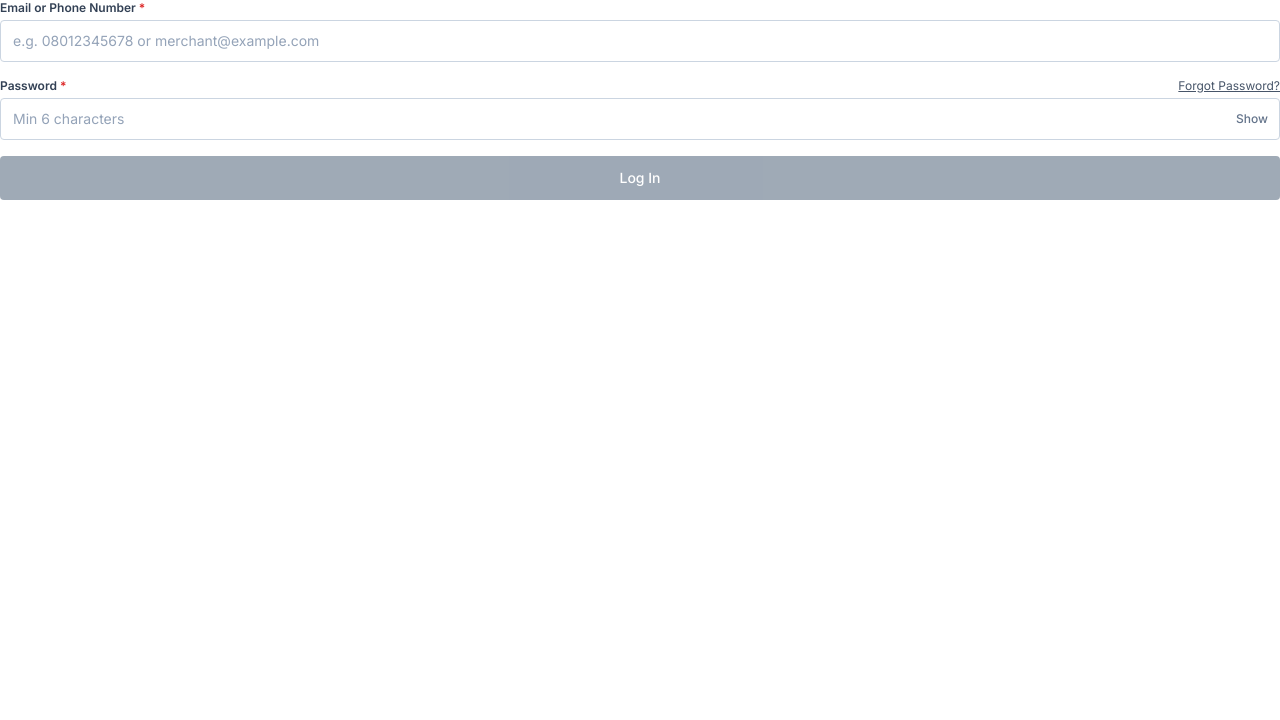
Test case: Vendor Login Flow Components › LoginForm Interactions & Validation › opens and closes forgot password modal
Step 1. Click the button "Forgot Password?" → (1229, 86), box [1178,78,1279,94]
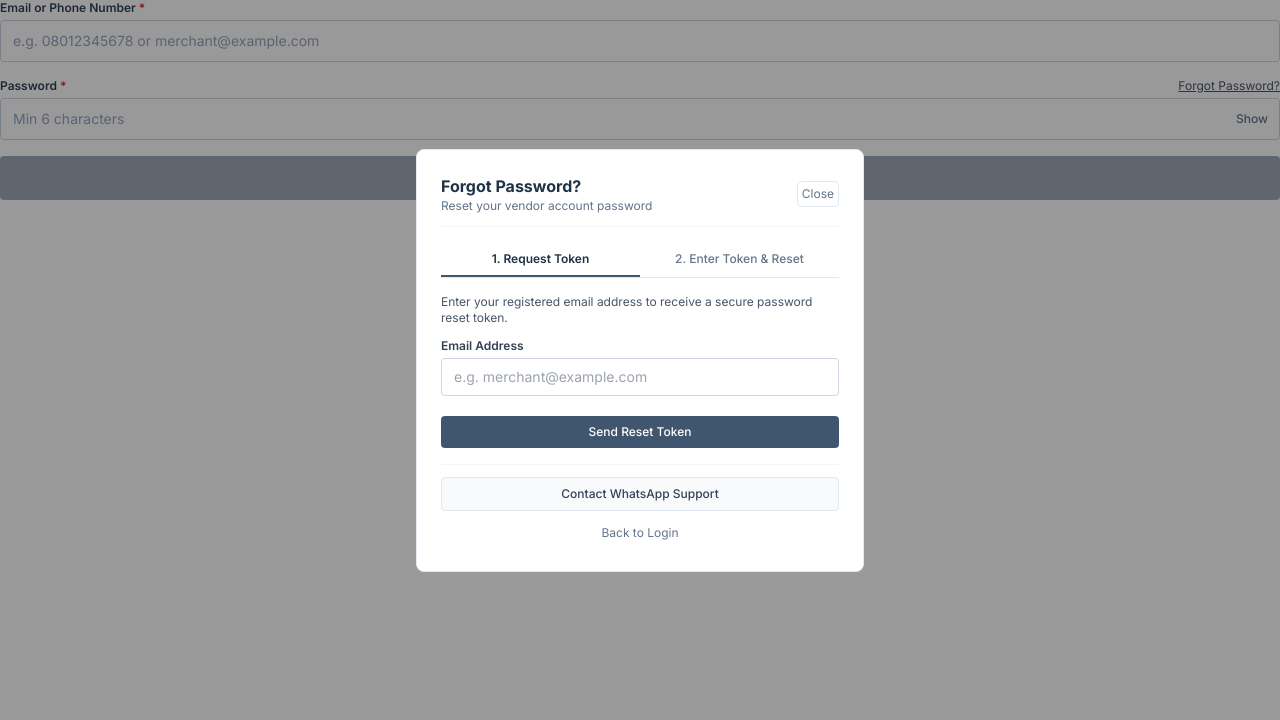
Now the dialog is shown
Now the heading "Forgot Password?" is shown, box [441,176,581,196]
Now the link "Contact WhatsApp Support" is shown, box [441,476,839,510]
Step 2. Click the button "Back to Login" → (640, 532), box [441,518,839,546]
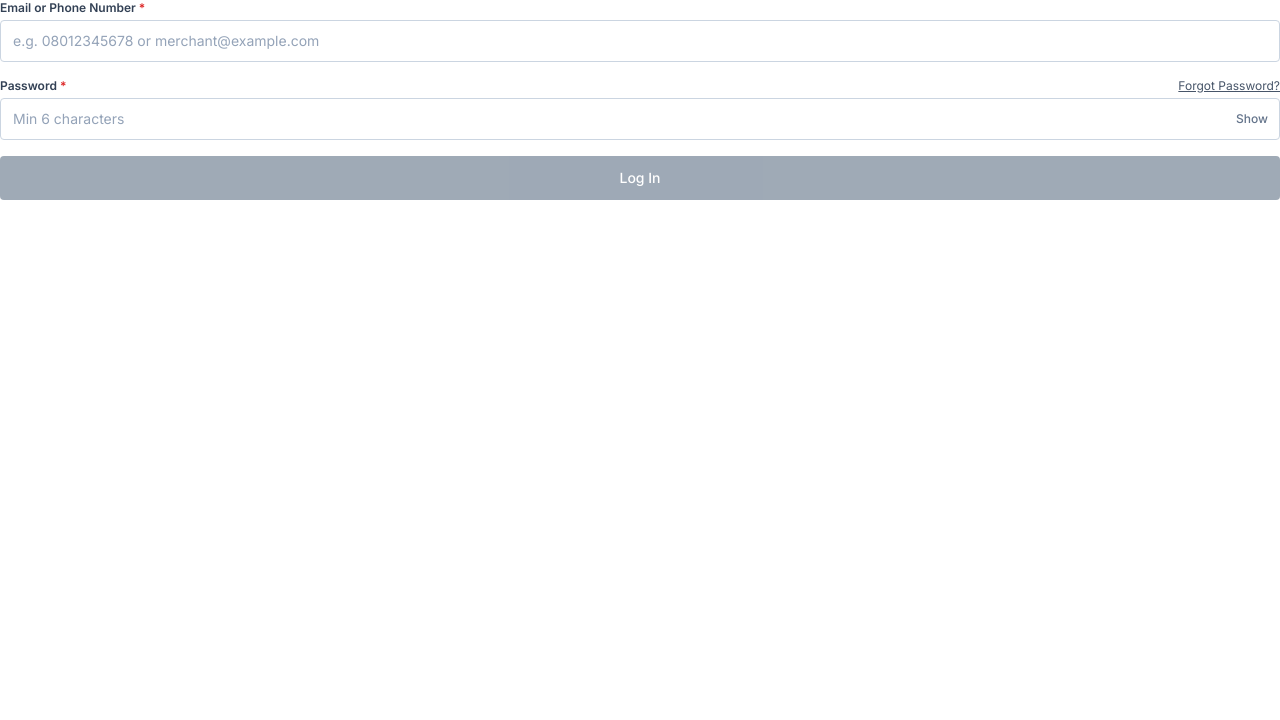
Now the dialog is gone
